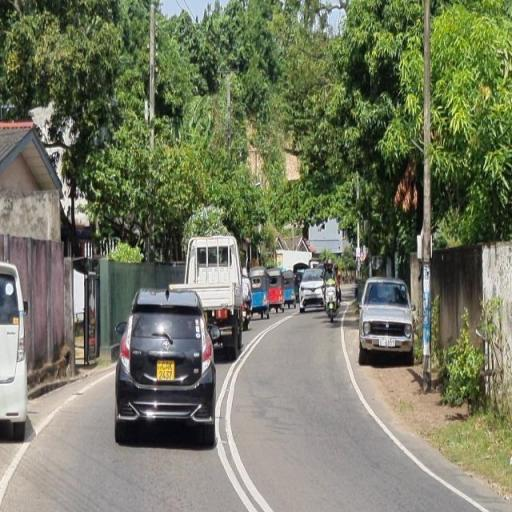double_white_line: (339, 322, 493, 510), (214, 310, 276, 511)
